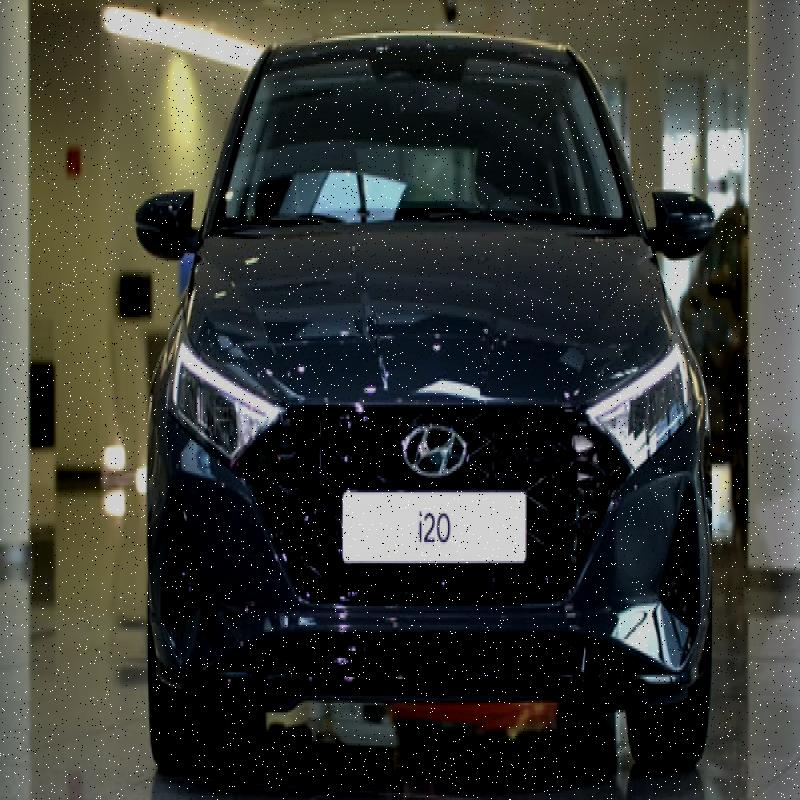car: (125, 12, 713, 771)
